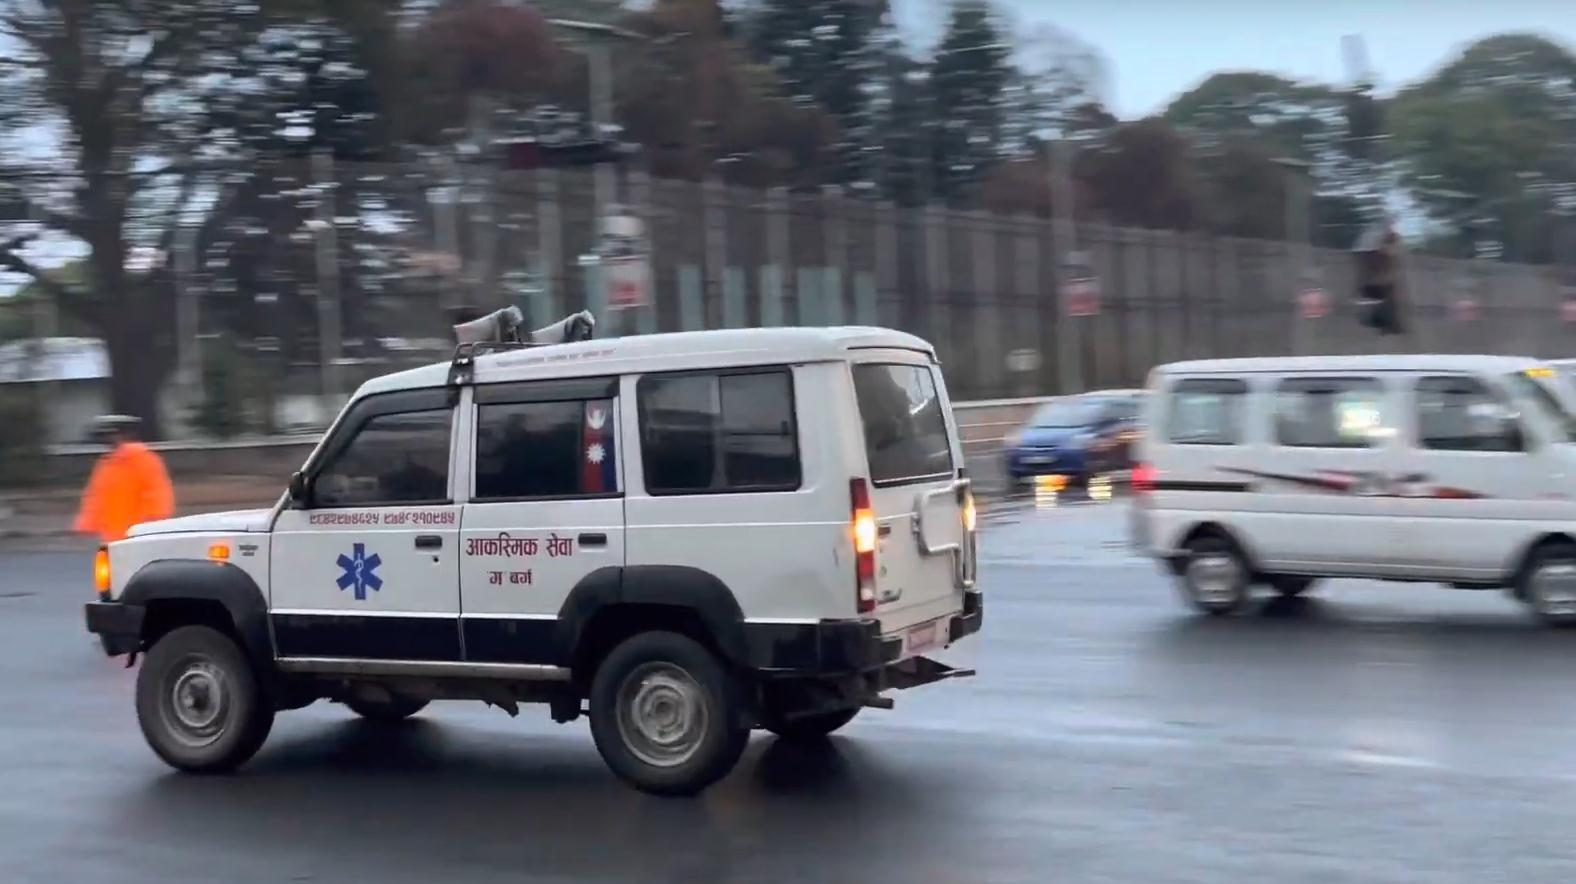ambulance: (82, 291, 995, 803)
van: (1120, 343, 1576, 628)
